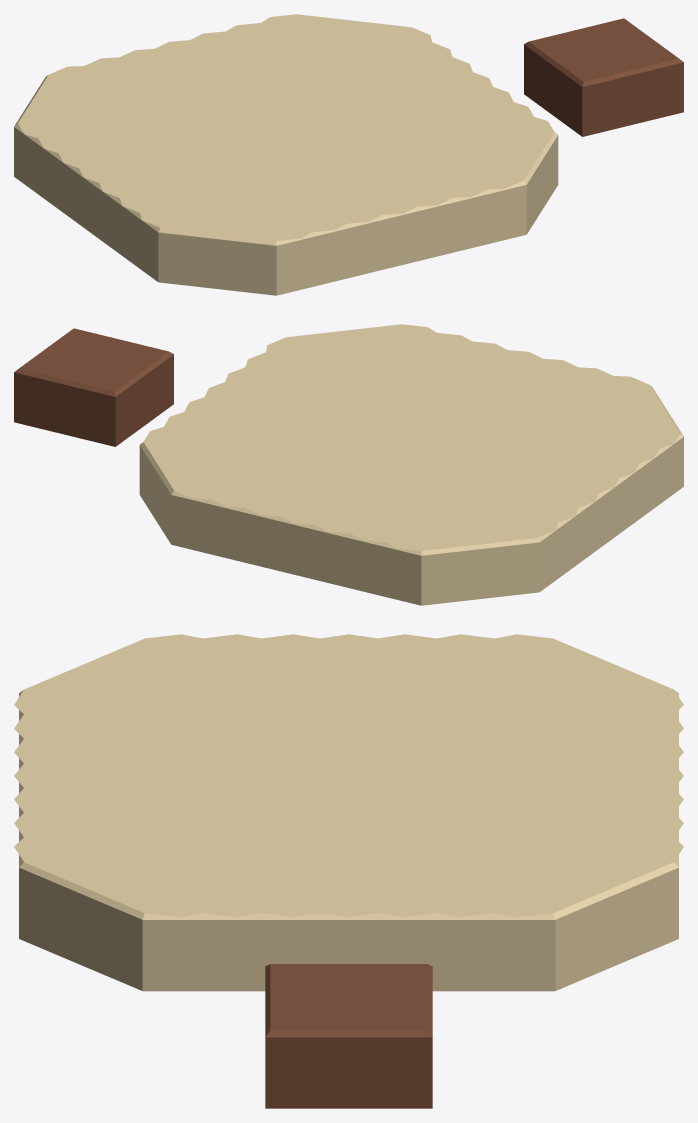
Rendered from mahsulot.glb.
The picture shows the model from 3 angles, top to bottom: view 1: azimuth 30°, elevation 25°; view 2: azimuth 150°, elevation 25°; view 3: azimuth 270°, elevation 25°; orthographic projection. The views are drawn at different scales.
Parts seen in each view (by area): view 1: mahsulot_A, mahsulot_B; view 2: mahsulot_A, mahsulot_B; view 3: mahsulot_A, mahsulot_B.
Boxes of the visible parts, x1,y1,x2,y2 form: mahsulot_A: (14, 14, 558, 295); mahsulot_B: (524, 18, 683, 136); mahsulot_A: (139, 324, 683, 605); mahsulot_B: (14, 328, 173, 446); mahsulot_A: (14, 634, 683, 991); mahsulot_B: (265, 964, 432, 1108).
Bounding box in the file's own units: 0.2815 × 0.025 × 0.2.
